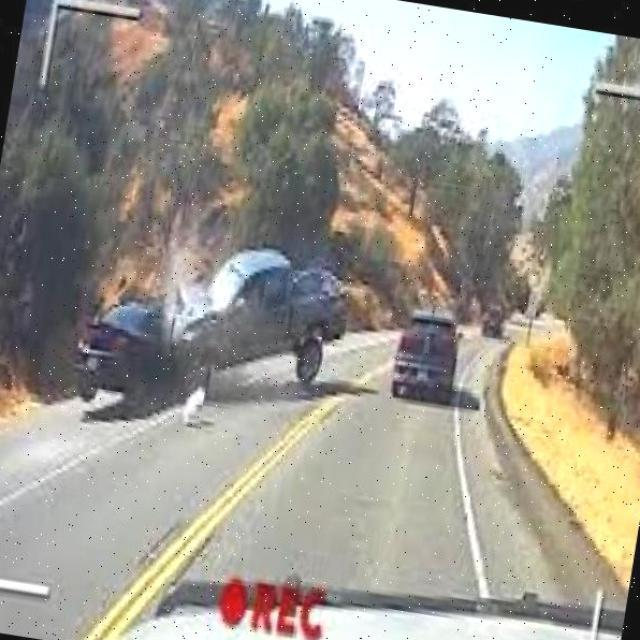accident: (50, 215, 360, 441)
